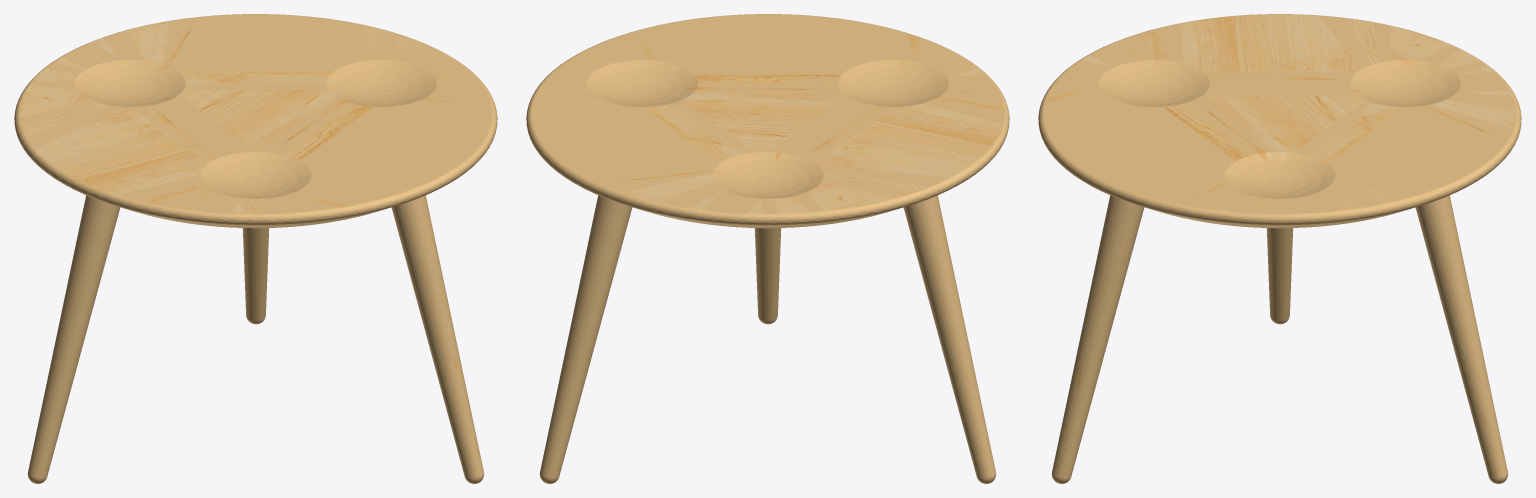
Rendered from side_table_a_v2.gltf.
3 views of the same model, side by side, from view 1: azimuth 30°, elevation 25°; view 2: azimuth 150°, elevation 25°; view 3: azimuth 270°, elevation 25° (orthographic).
Visible parts, largest first — view 1: Side table v1; view 2: Side table v1; view 3: Side table v1.
Part boxes in pixels (box(x1,y1,x2,y2)): Side table v1: box(14, 14, 497, 483); Side table v1: box(526, 14, 1009, 483); Side table v1: box(1038, 14, 1521, 483).
Size of the model in its own units: 2.61 by 1.8 by 2.5.
1 material, 1 textured.
